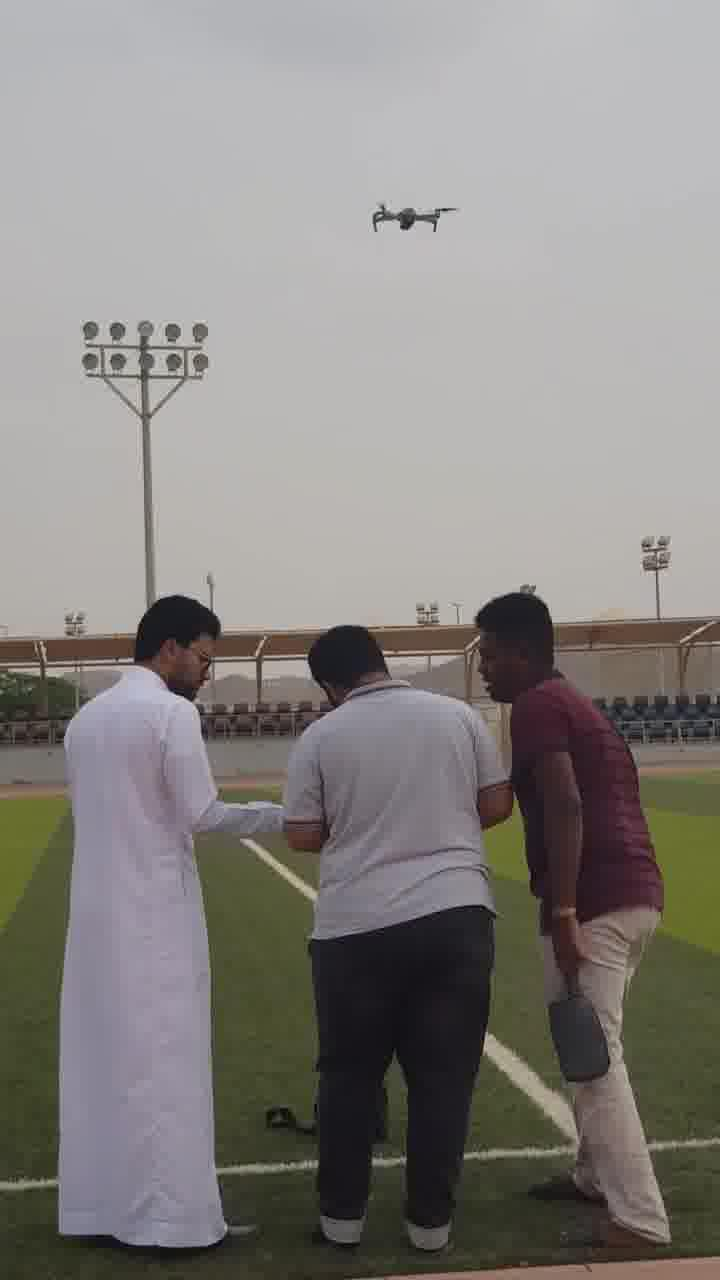drone: (361, 192, 463, 240)
